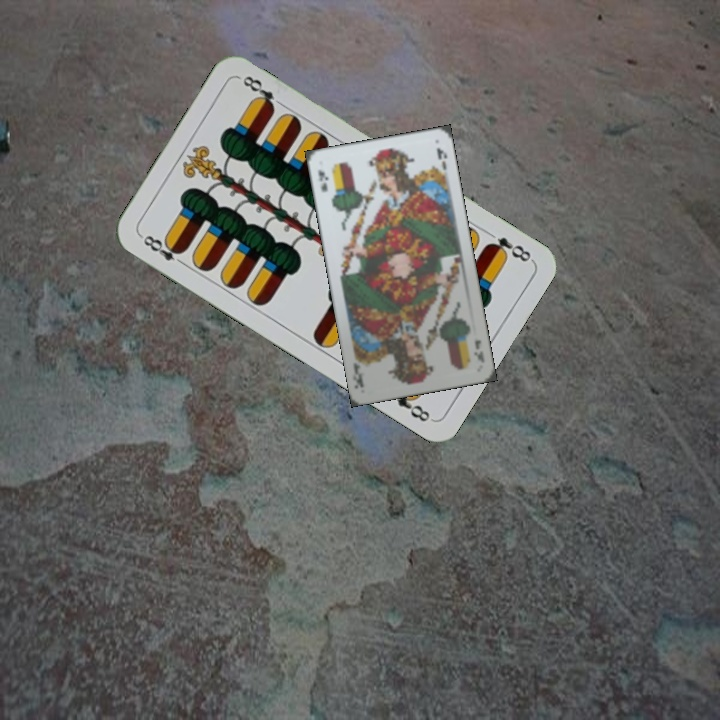E8: (136, 231, 189, 269), (482, 233, 534, 265)
EK: (469, 336, 487, 365), (314, 165, 331, 194)
